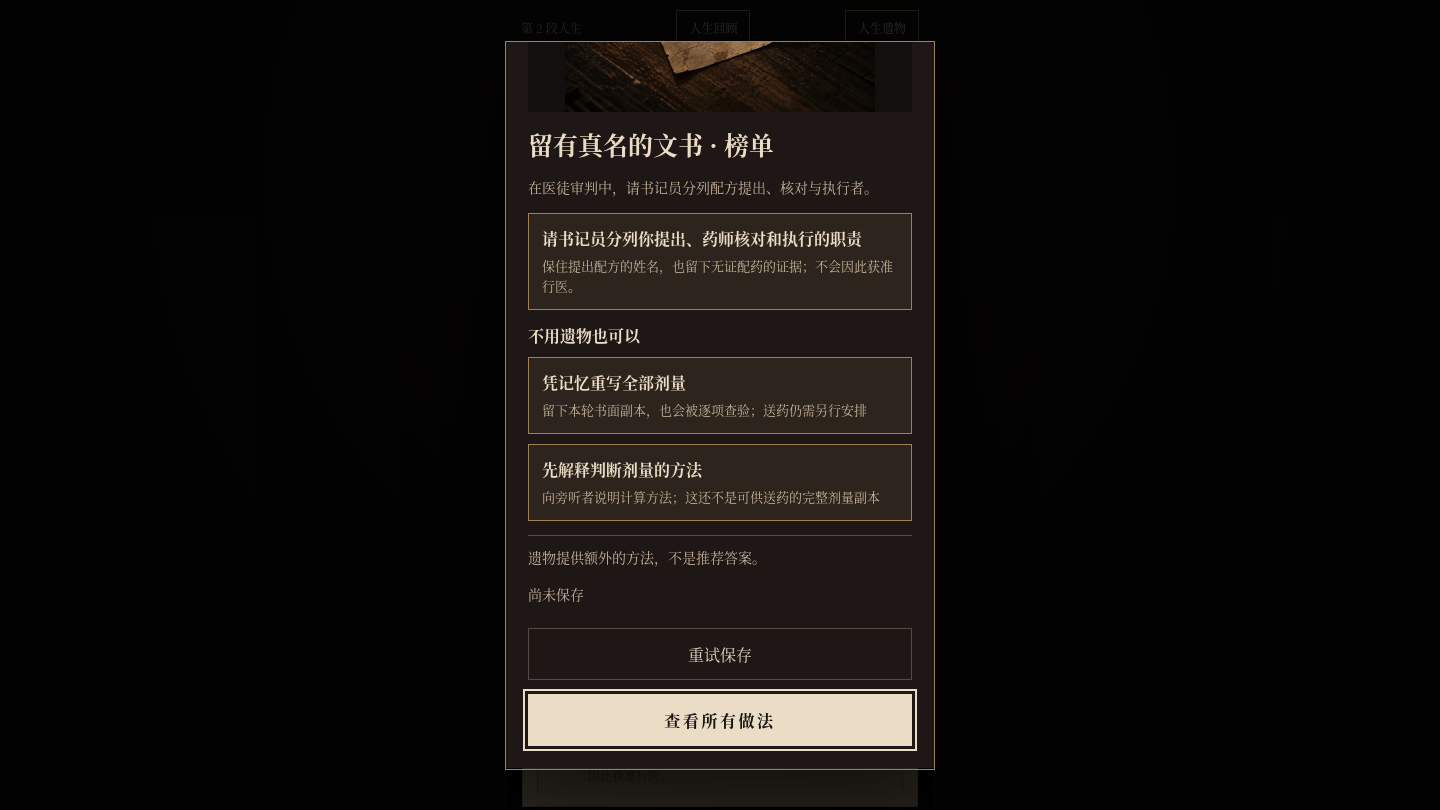
it: App › retries a failed save inside the opportunity without dismissing or choosing
(page scrolled)
Expected: the text "尚未保存" is shown, [528,584,584,604]
Click the button "重试保存" at (720, 654), box [528,628,912,680]
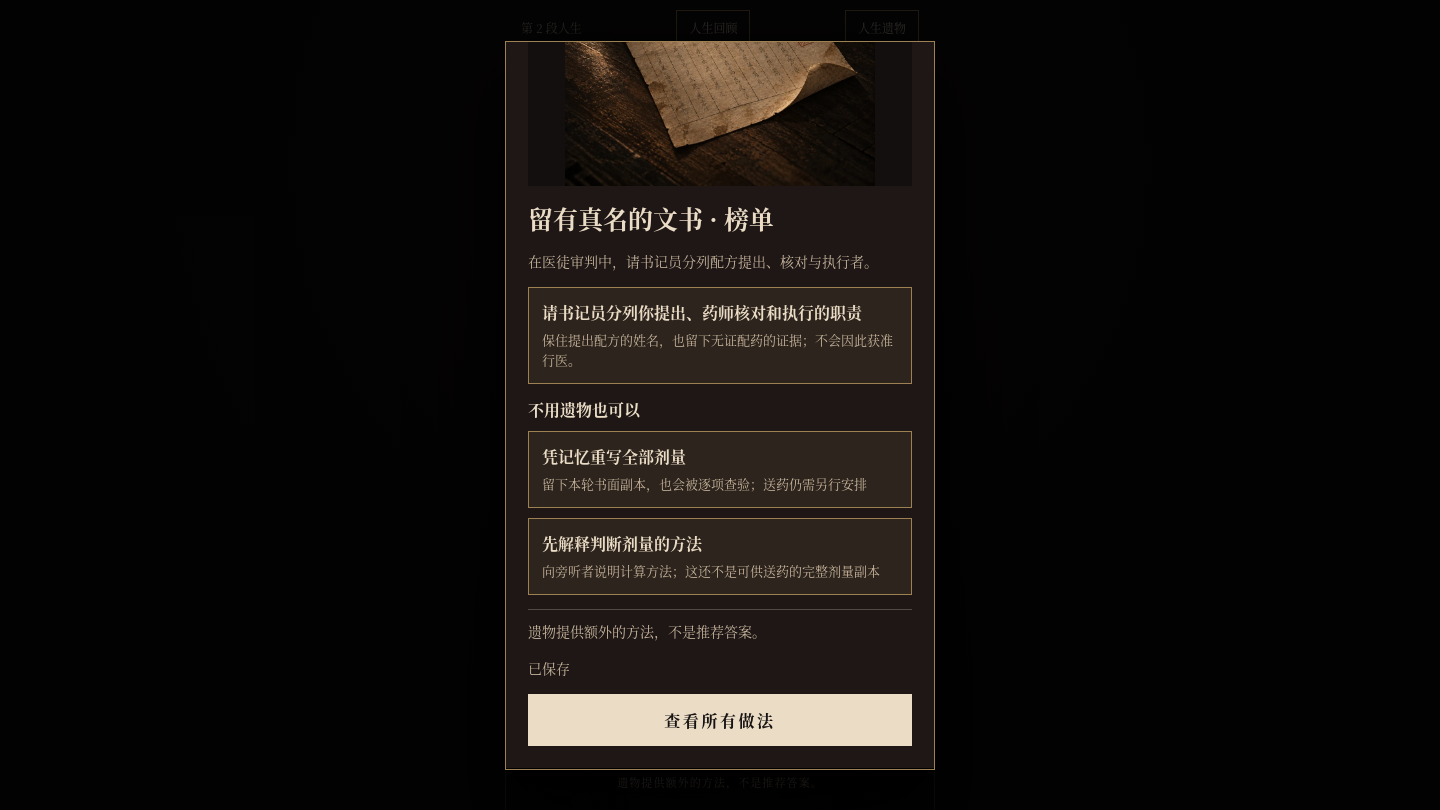
Result: the text "已保存" is shown at [528,658,570,678]
